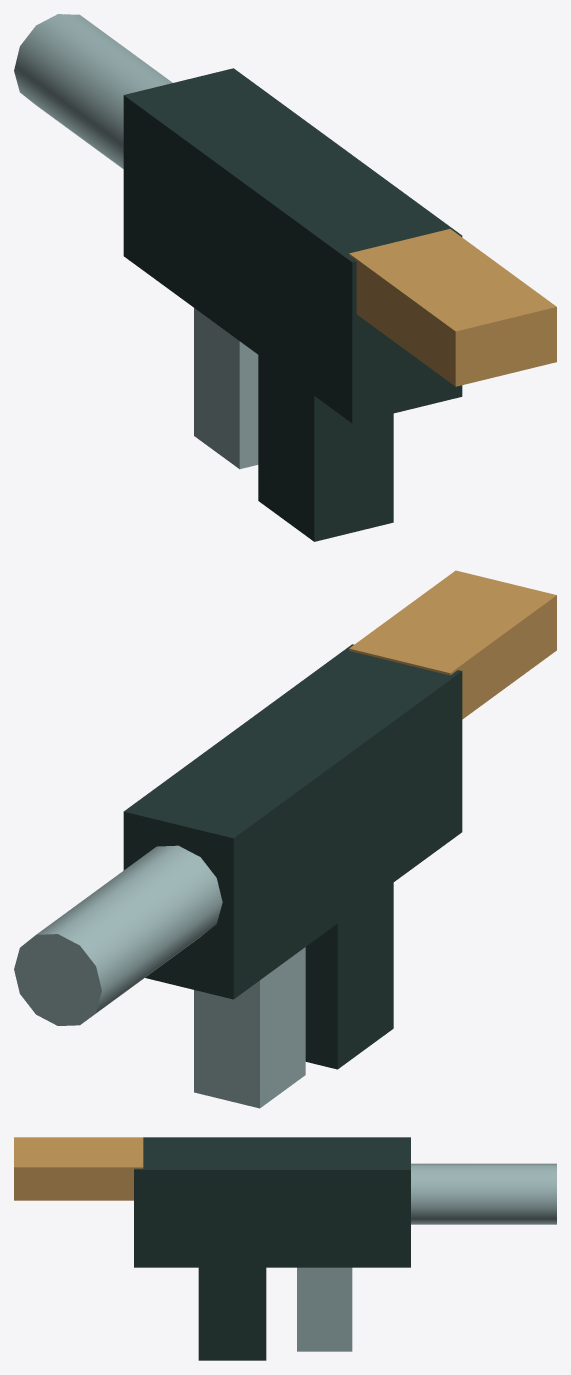
The model's file is uzi.glb.
The picture shows the model from 3 angles, top to bottom: view 1: azimuth 30°, elevation 25°; view 2: azimuth 150°, elevation 25°; view 3: azimuth 270°, elevation 25°; orthographic projection. The views are drawn at different scales.
Visible parts, largest first — view 1: uzi; view 2: uzi; view 3: uzi.
Part boxes in pixels (left/top/right/bottom): uzi: left=14, top=14, right=556, bottom=541; uzi: left=14, top=570, right=556, bottom=1108; uzi: left=14, top=1137, right=556, bottom=1360.
Size of the model in its own units: 0.25 by 0.705 by 1.76.
